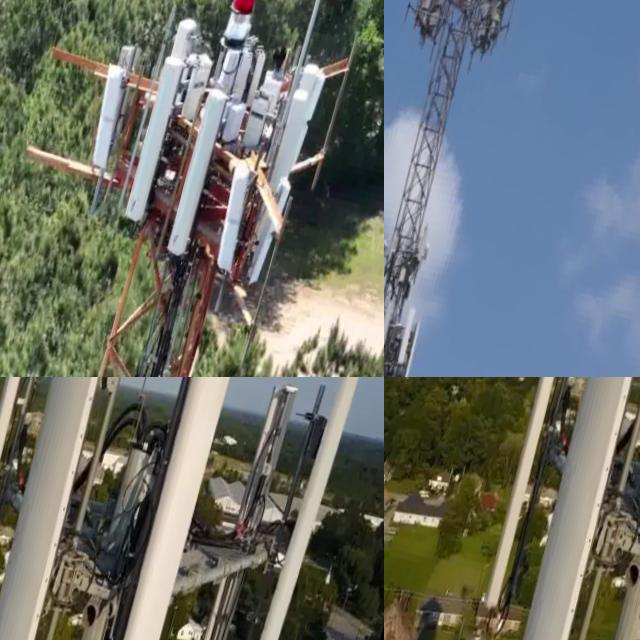GSM Antenna: (66, 377, 241, 640), (479, 377, 640, 640), (0, 377, 155, 640), (225, 377, 378, 640), (468, 377, 594, 619), (187, 381, 304, 640), (0, 377, 51, 640), (159, 83, 231, 269), (117, 47, 190, 224), (269, 59, 334, 184), (80, 60, 137, 182), (208, 160, 266, 274), (241, 175, 296, 292), (390, 301, 421, 377), (396, 313, 427, 377), (384, 293, 399, 363)
Microwave Antenna: (418, 243, 432, 263), (384, 235, 392, 266), (502, 0, 529, 8)
